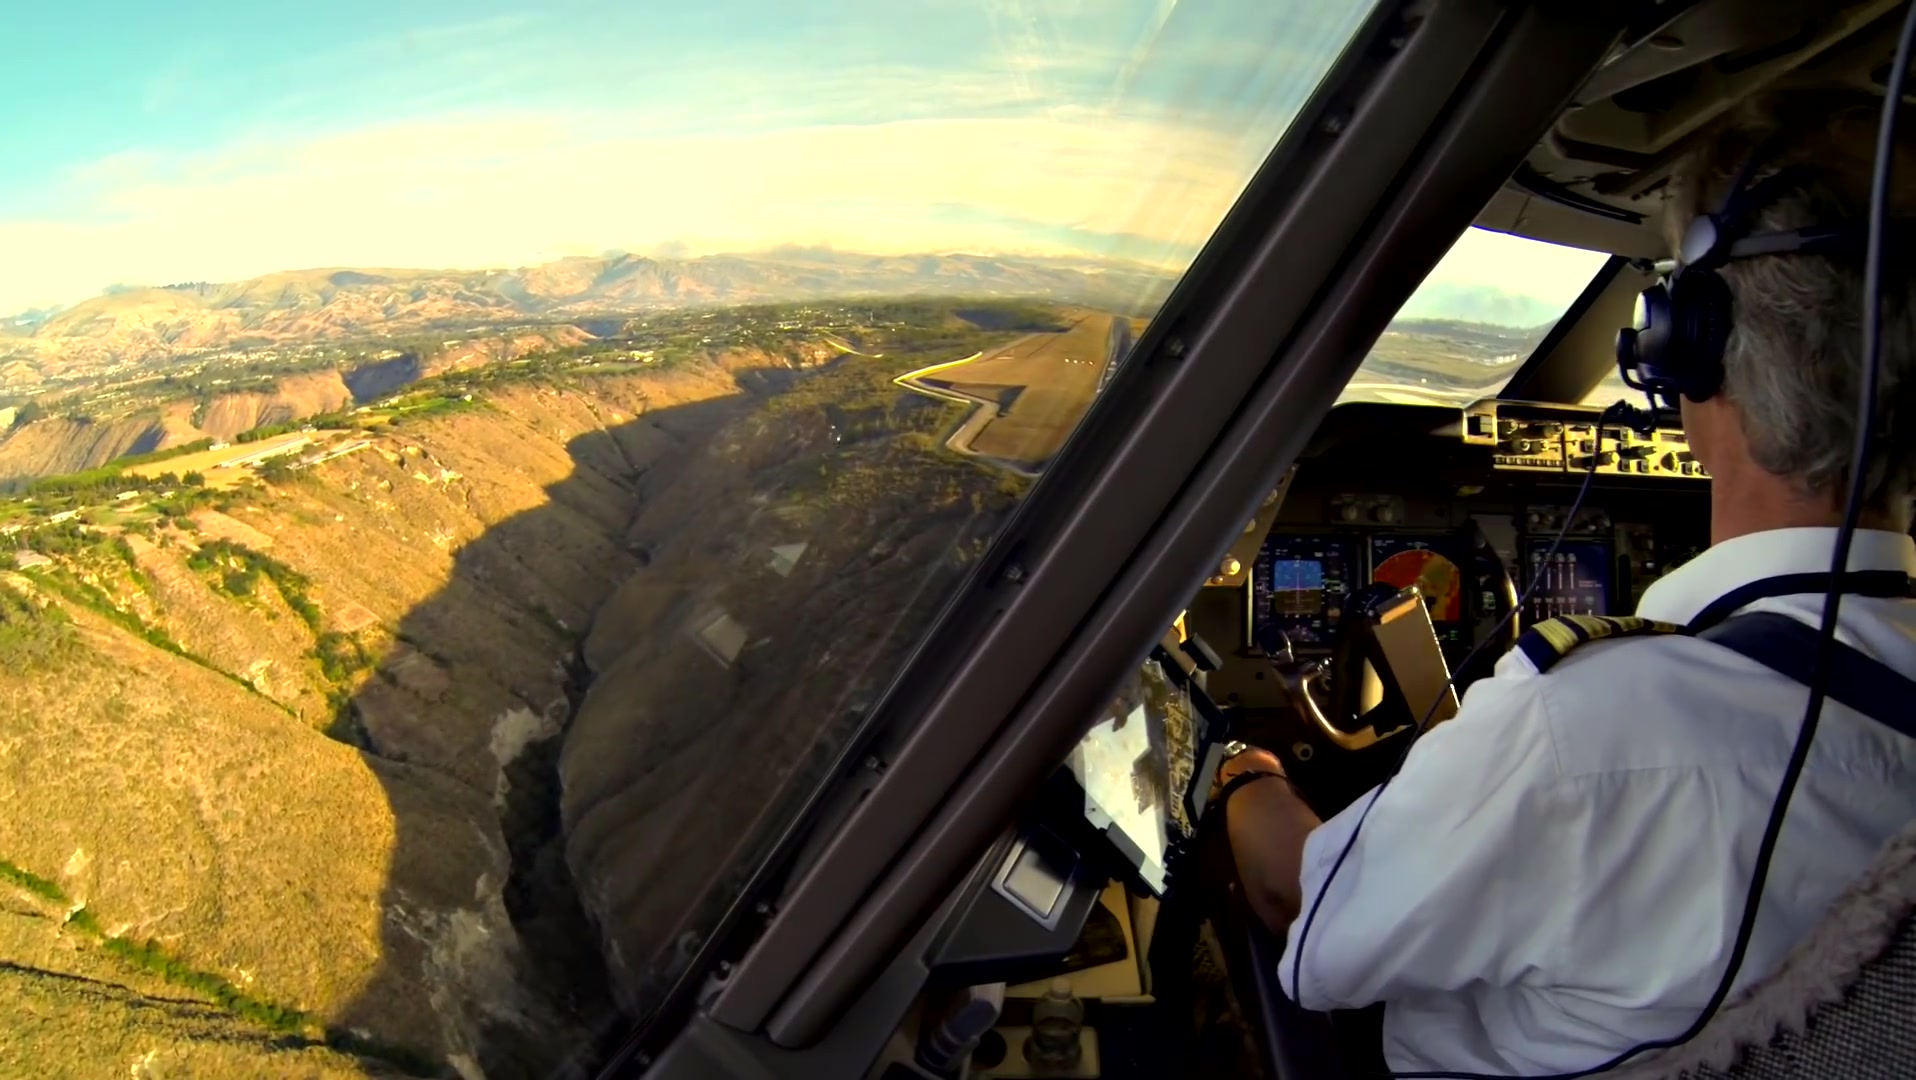runway: (1091, 318, 1141, 399)
